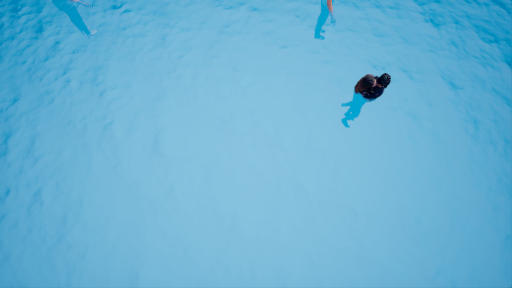person: (339, 64, 390, 137)
